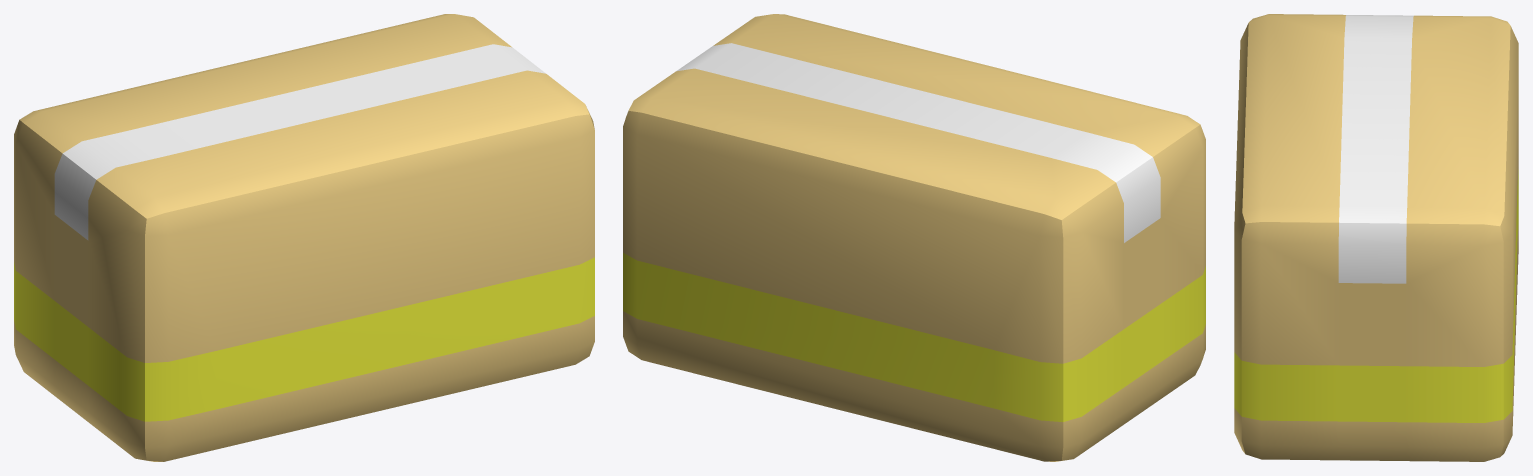
The model's file is Props_Box_Yellow_02.fbx.
3 views of the same model, side by side, from view 1: azimuth 30°, elevation 25°; view 2: azimuth 150°, elevation 25°; view 3: azimuth 270°, elevation 25° (orthographic). The views are drawn at different scales.
Parts seen in each view (by area): view 1: Props_Box_Yellow_02; view 2: Props_Box_Yellow_02; view 3: Props_Box_Yellow_02.
Part boxes in pixels (x1,y1,x2,y2): Props_Box_Yellow_02: (14, 14, 594, 461); Props_Box_Yellow_02: (623, 14, 1205, 461); Props_Box_Yellow_02: (1234, 14, 1518, 461).
Bounding box in the file's own units: 96.84 × 52.32 × 53.48.
